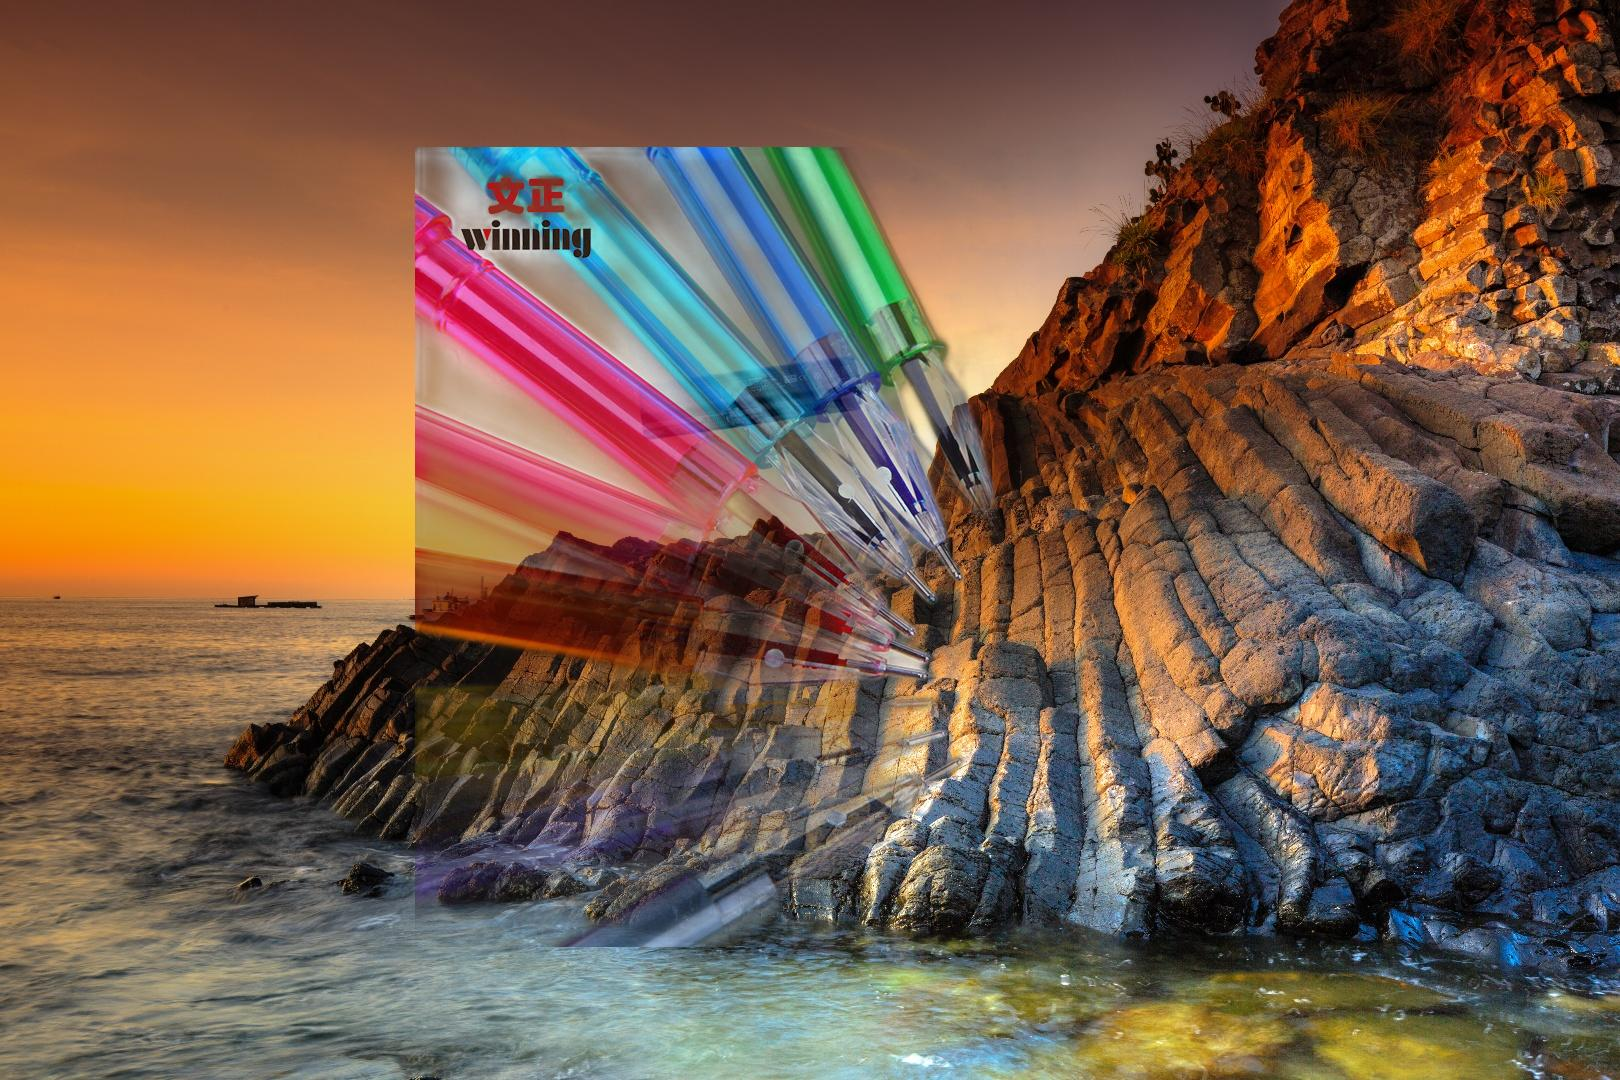battery: (638, 353, 863, 444)
penholder: (415, 147, 1215, 947)
